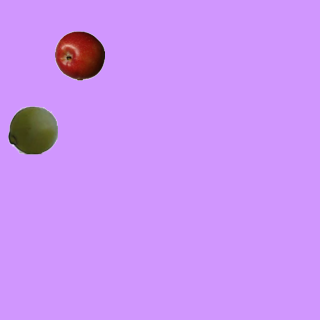Apple Braeburn: (54, 30, 104, 80)
Grape White 4: (7, 104, 57, 154)
